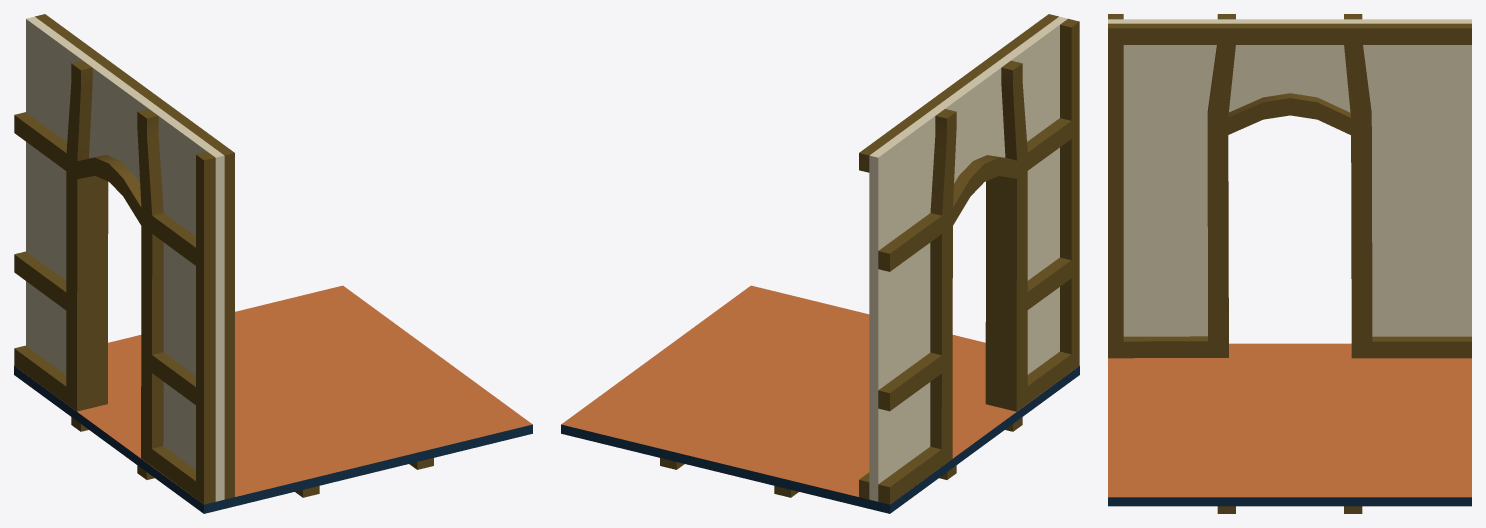
Rendered from ArchDoorWay.fbx.
3 views of the same model, side by side, from view 1: azimuth 30°, elevation 25°; view 2: azimuth 150°, elevation 25°; view 3: azimuth 270°, elevation 25° (orthographic). The views are drawn at different scales.
Parts seen in each view (by area): view 1: pCube316; view 2: pCube316; view 3: pCube316.
Boxes of the visible parts, x1,y1,x2,y2 form: pCube316: (14,14,532,513); pCube316: (561,14,1079,513); pCube316: (1108,14,1471,513).
Size of the model in its own units: 3 by 3.15 by 3.
